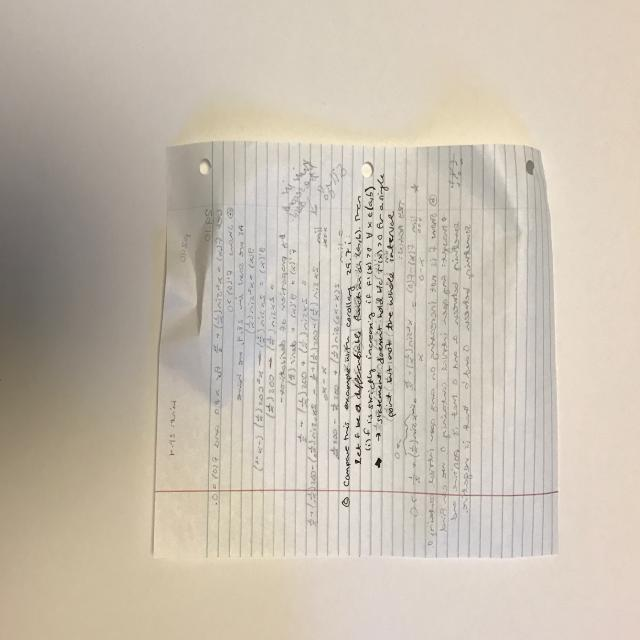paper: (134, 114, 580, 581)
